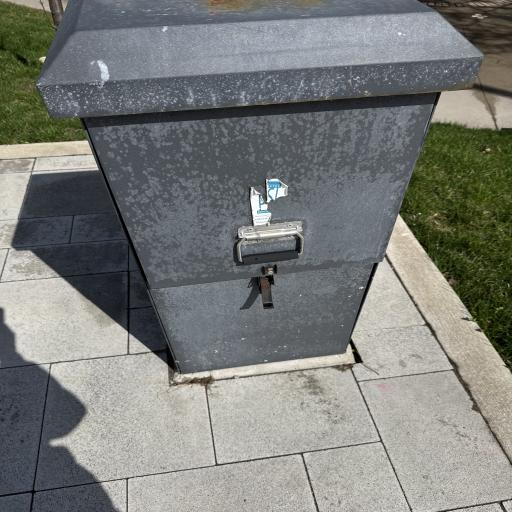Electrical Box: (35, 4, 487, 374)
